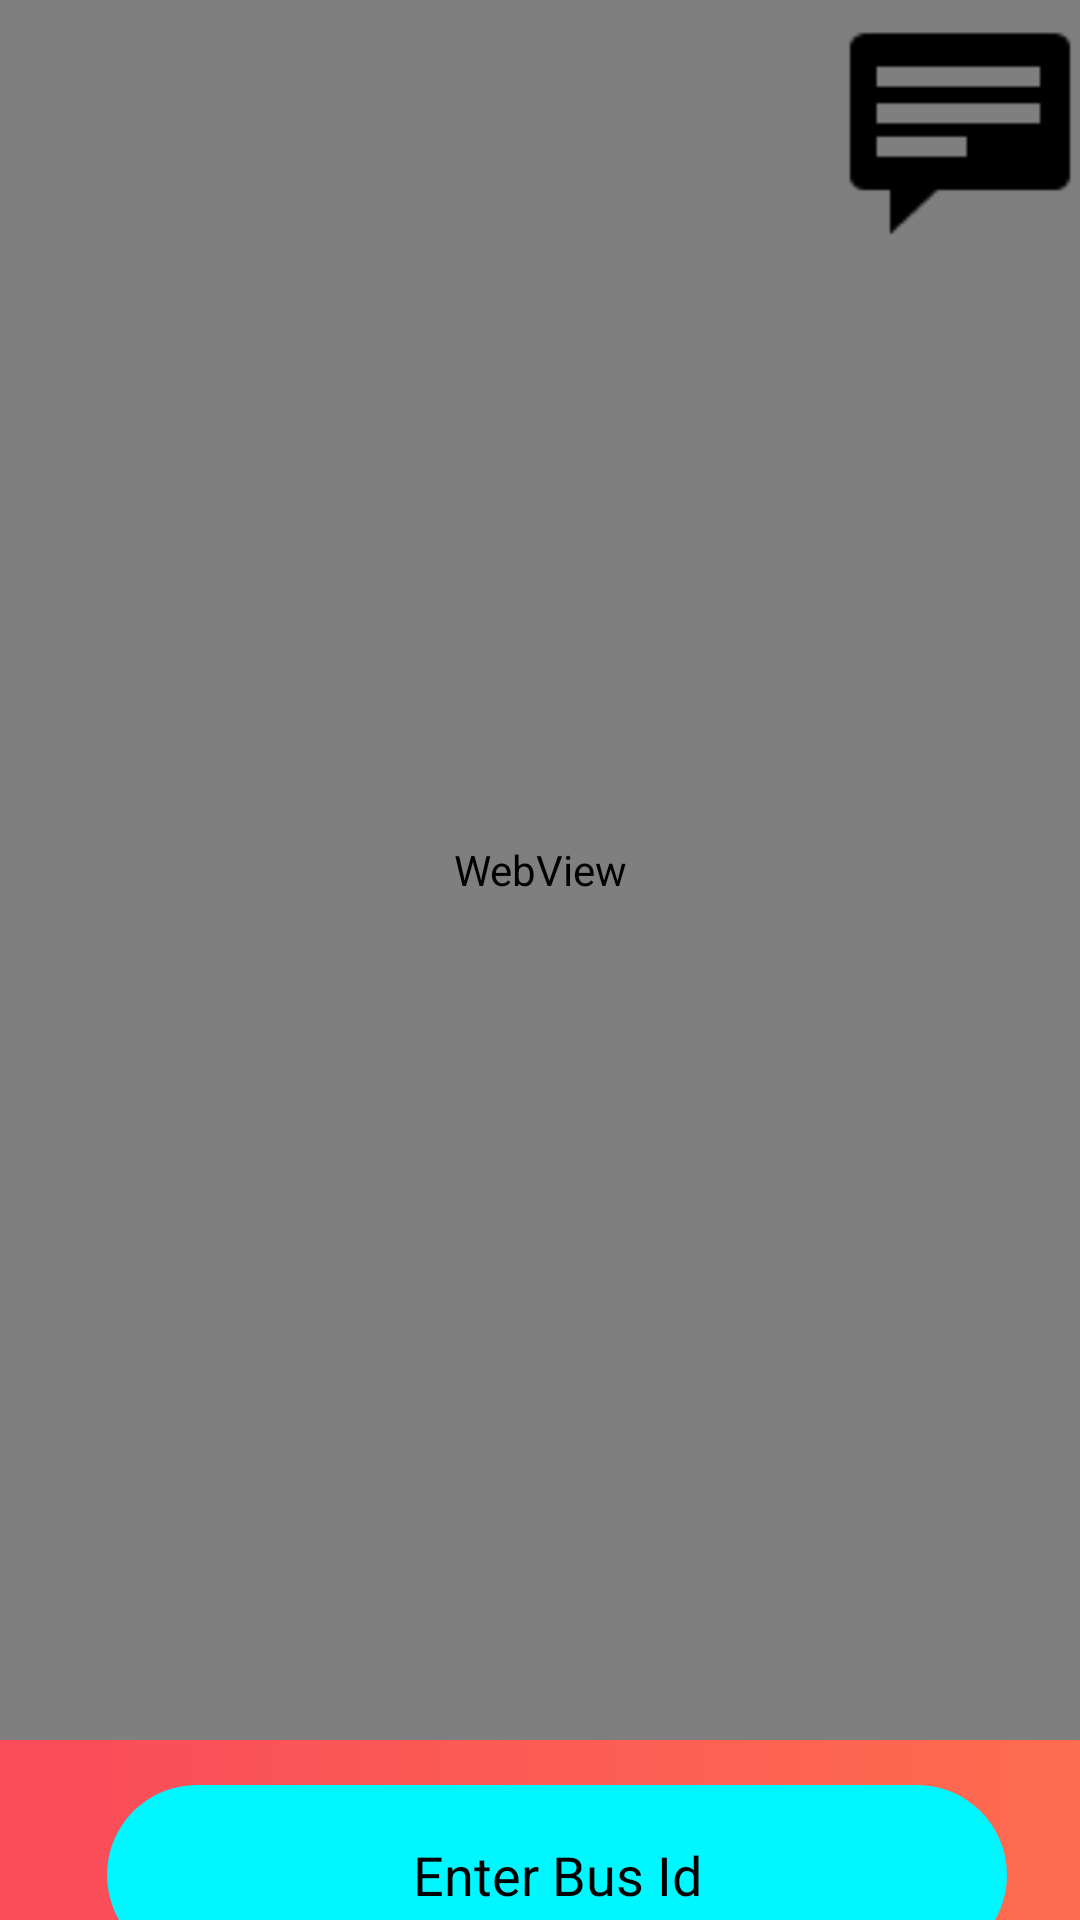

Where icons sit on this 1080px x 1920px app screen, as (x1, y1, x2, y2):
chat: (849, 32, 1071, 234)
